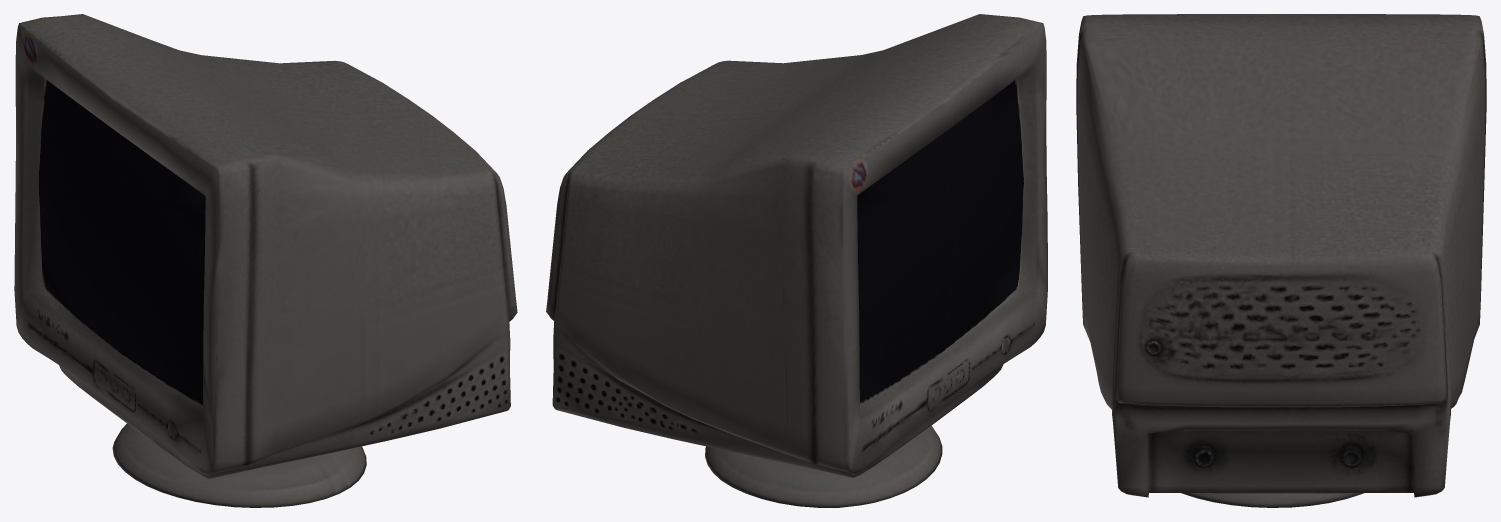
Rendered from Monitor.fbx.
The picture shows the model from 3 angles, left to right: view 1: azimuth 30°, elevation 25°; view 2: azimuth 150°, elevation 25°; view 3: azimuth 270°, elevation 25°; orthographic projection.
Visible parts, largest first — view 1: tripo_node_a99c68f3; view 2: tripo_node_a99c68f3; view 3: tripo_node_a99c68f3.
Boxes of the visible parts, box(x1,y1,x2,y2) form: tripo_node_a99c68f3: box(14, 14, 517, 507); tripo_node_a99c68f3: box(546, 14, 1047, 507); tripo_node_a99c68f3: box(1076, 14, 1486, 507).
Size of the model in its own units: 0.9126 by 0.9995 by 0.9653.
